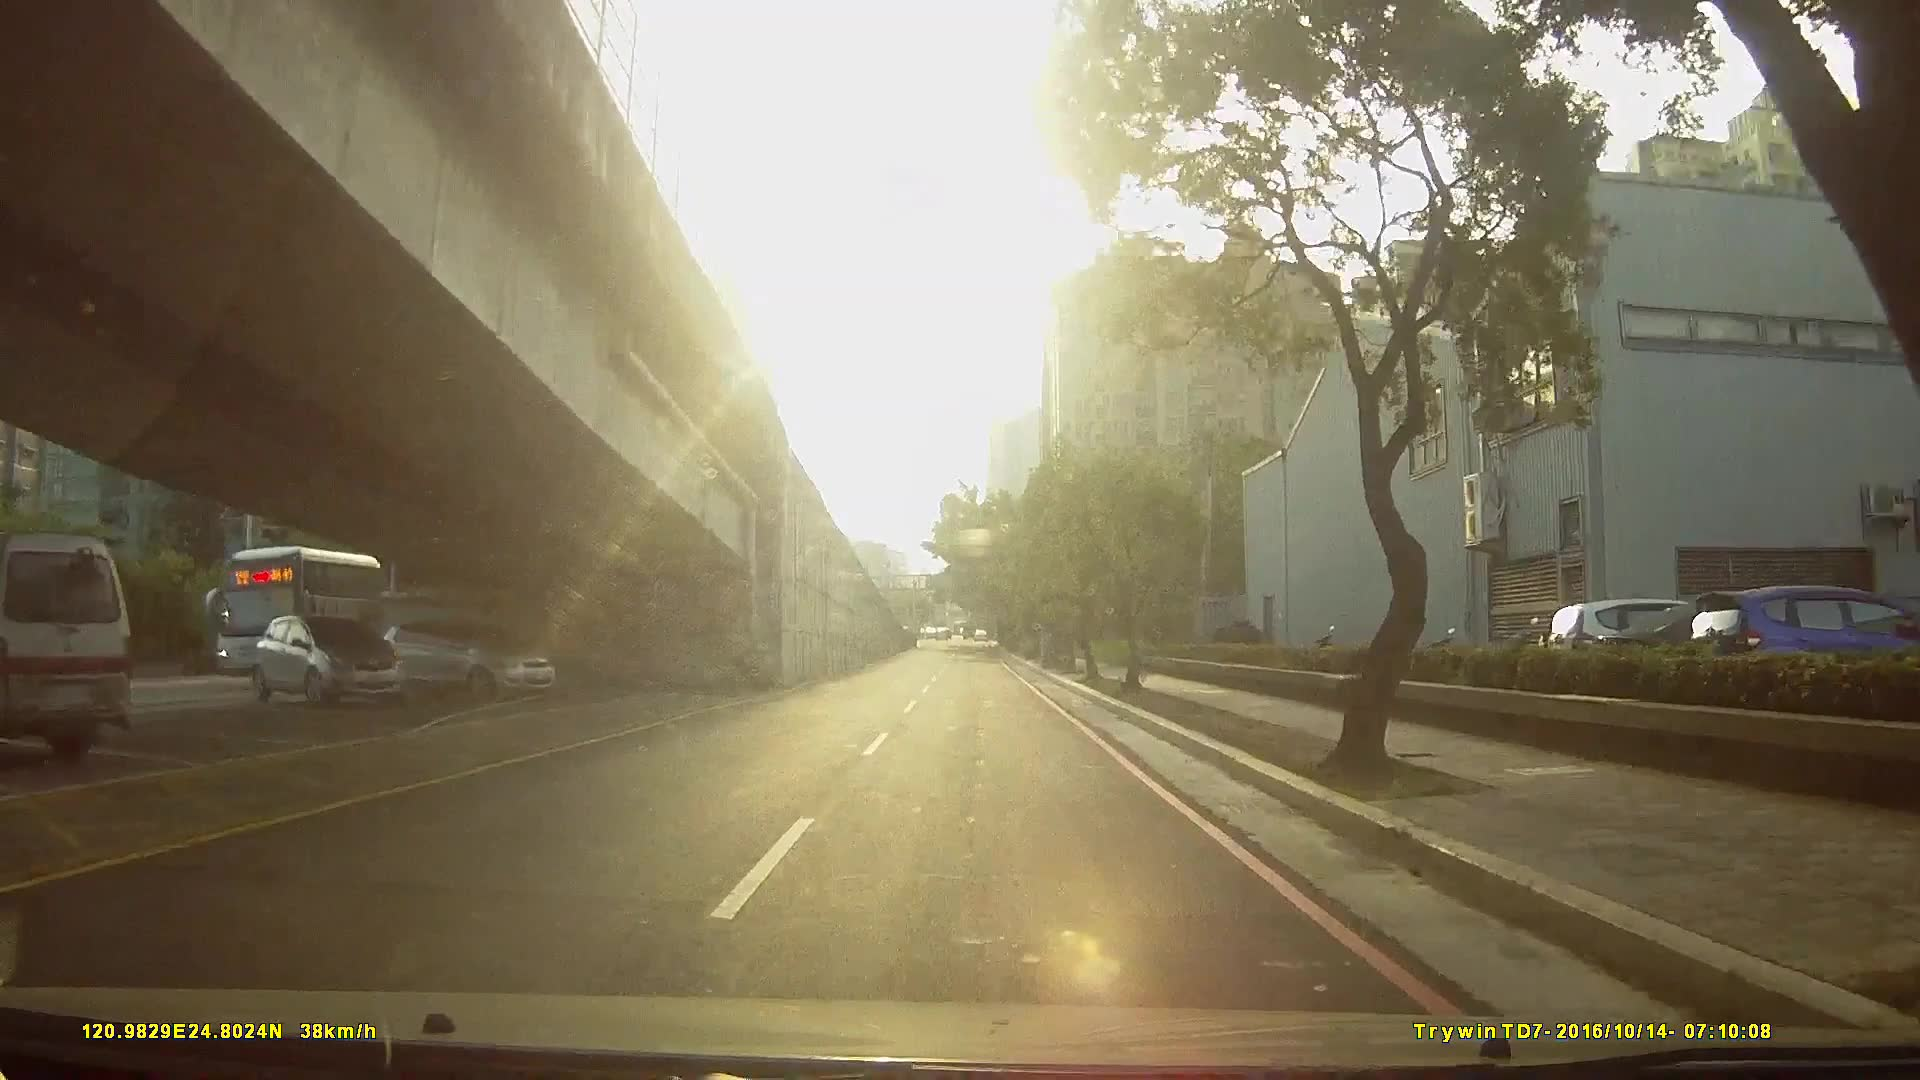vehicle: (202, 541, 452, 696), (1, 527, 149, 771), (367, 618, 550, 705), (237, 613, 398, 707)
